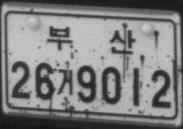0: (100, 65, 122, 104)
1: (127, 67, 143, 107)
2: (150, 68, 172, 108), (10, 60, 31, 98)
6: (34, 62, 54, 100)
9: (76, 64, 96, 103)
거: (56, 68, 73, 96)
부산_D: (47, 25, 136, 55)
